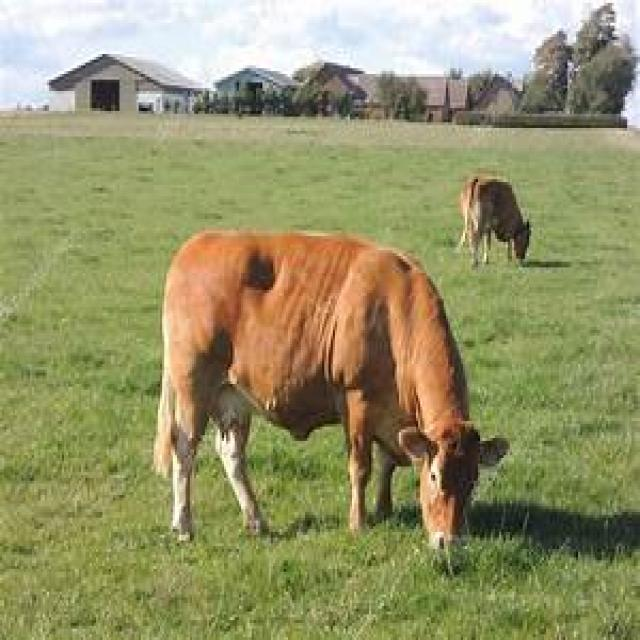cow: (151, 230, 484, 552), (457, 174, 533, 270)
